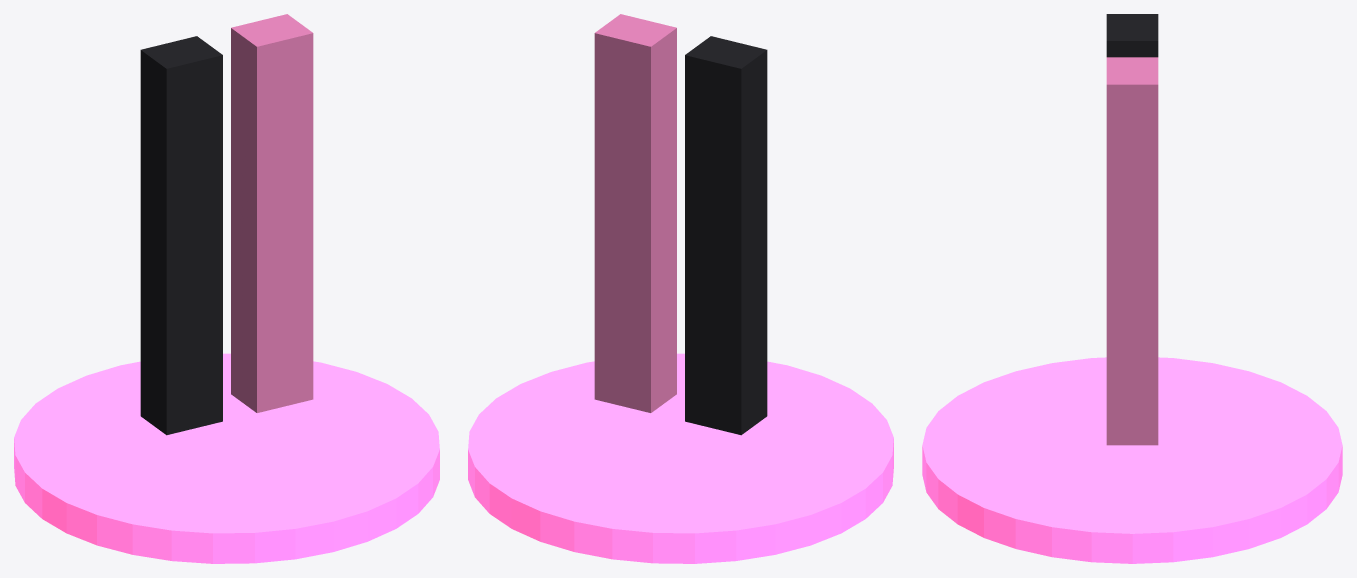
File: beauty_hair_straightener.glb
3 renders of one model, left to right at view 1: azimuth 30°, elevation 25°; view 2: azimuth 150°, elevation 25°; view 3: azimuth 270°, elevation 25°, orthographic.
Visible parts, largest first — view 1: 03_15_Popular_Beauty_Hair_Straightener_ROOT_base, 03_15_Popular_Beauty_Hair_Straightener_part_02, 03_15_Popular_Beauty_Hair_Straightener_part_01; view 2: 03_15_Popular_Beauty_Hair_Straightener_ROOT_base, 03_15_Popular_Beauty_Hair_Straightener_part_02, 03_15_Popular_Beauty_Hair_Straightener_part_01; view 3: 03_15_Popular_Beauty_Hair_Straightener_ROOT_base, 03_15_Popular_Beauty_Hair_Straightener_part_02, 03_15_Popular_Beauty_Hair_Straightener_part_01.
Boxes of the visible parts, x1=… form: 03_15_Popular_Beauty_Hair_Straightener_ROOT_base: x1=14, y1=353, x2=439, y2=563; 03_15_Popular_Beauty_Hair_Straightener_part_02: x1=231, y1=14, x2=313, y2=412; 03_15_Popular_Beauty_Hair_Straightener_part_01: x1=140, y1=36, x2=222, y2=435; 03_15_Popular_Beauty_Hair_Straightener_ROOT_base: x1=468, y1=353, x2=893, y2=563; 03_15_Popular_Beauty_Hair_Straightener_part_02: x1=594, y1=14, x2=676, y2=412; 03_15_Popular_Beauty_Hair_Straightener_part_01: x1=685, y1=36, x2=767, y2=435; 03_15_Popular_Beauty_Hair_Straightener_ROOT_base: x1=922, y1=357, x2=1342, y2=563; 03_15_Popular_Beauty_Hair_Straightener_part_02: x1=1106, y1=57, x2=1158, y2=445; 03_15_Popular_Beauty_Hair_Straightener_part_01: x1=1106, y1=14, x2=1158, y2=57.
Size of the model in its own units: 0.76 by 0.85 by 0.76.
